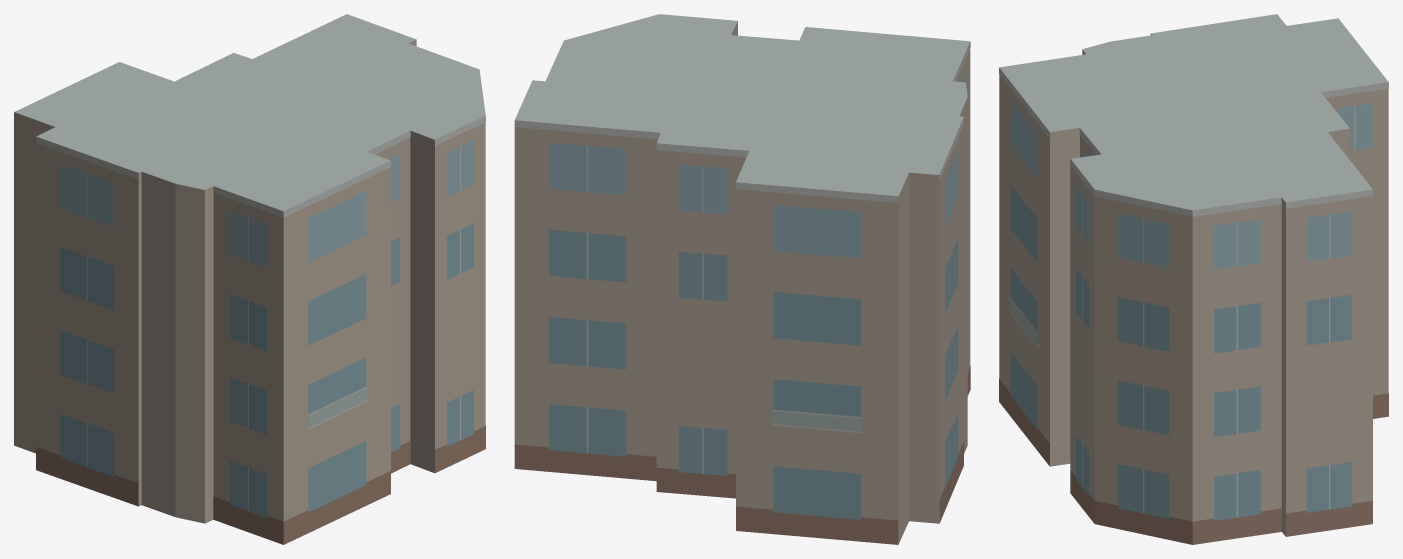
File: survey-upis-32658416.glb
The picture shows the model from 3 angles, left to right: view 1: azimuth 30°, elevation 25°; view 2: azimuth 150°, elevation 25°; view 3: azimuth 270°, elevation 25°; orthographic projection. The views are drawn at different scales.
Parts seen in each view (by area): view 1: survey-upis-32658416.tmp; view 2: survey-upis-32658416.tmp; view 3: survey-upis-32658416.tmp.
Part boxes in pixels (bbox=[...]): survey-upis-32658416.tmp: bbox=[14, 14, 485, 544]; survey-upis-32658416.tmp: bbox=[514, 14, 970, 544]; survey-upis-32658416.tmp: bbox=[999, 14, 1388, 544].
Bounding box in the file's own units: 15.69 × 12.45 × 13.15.
